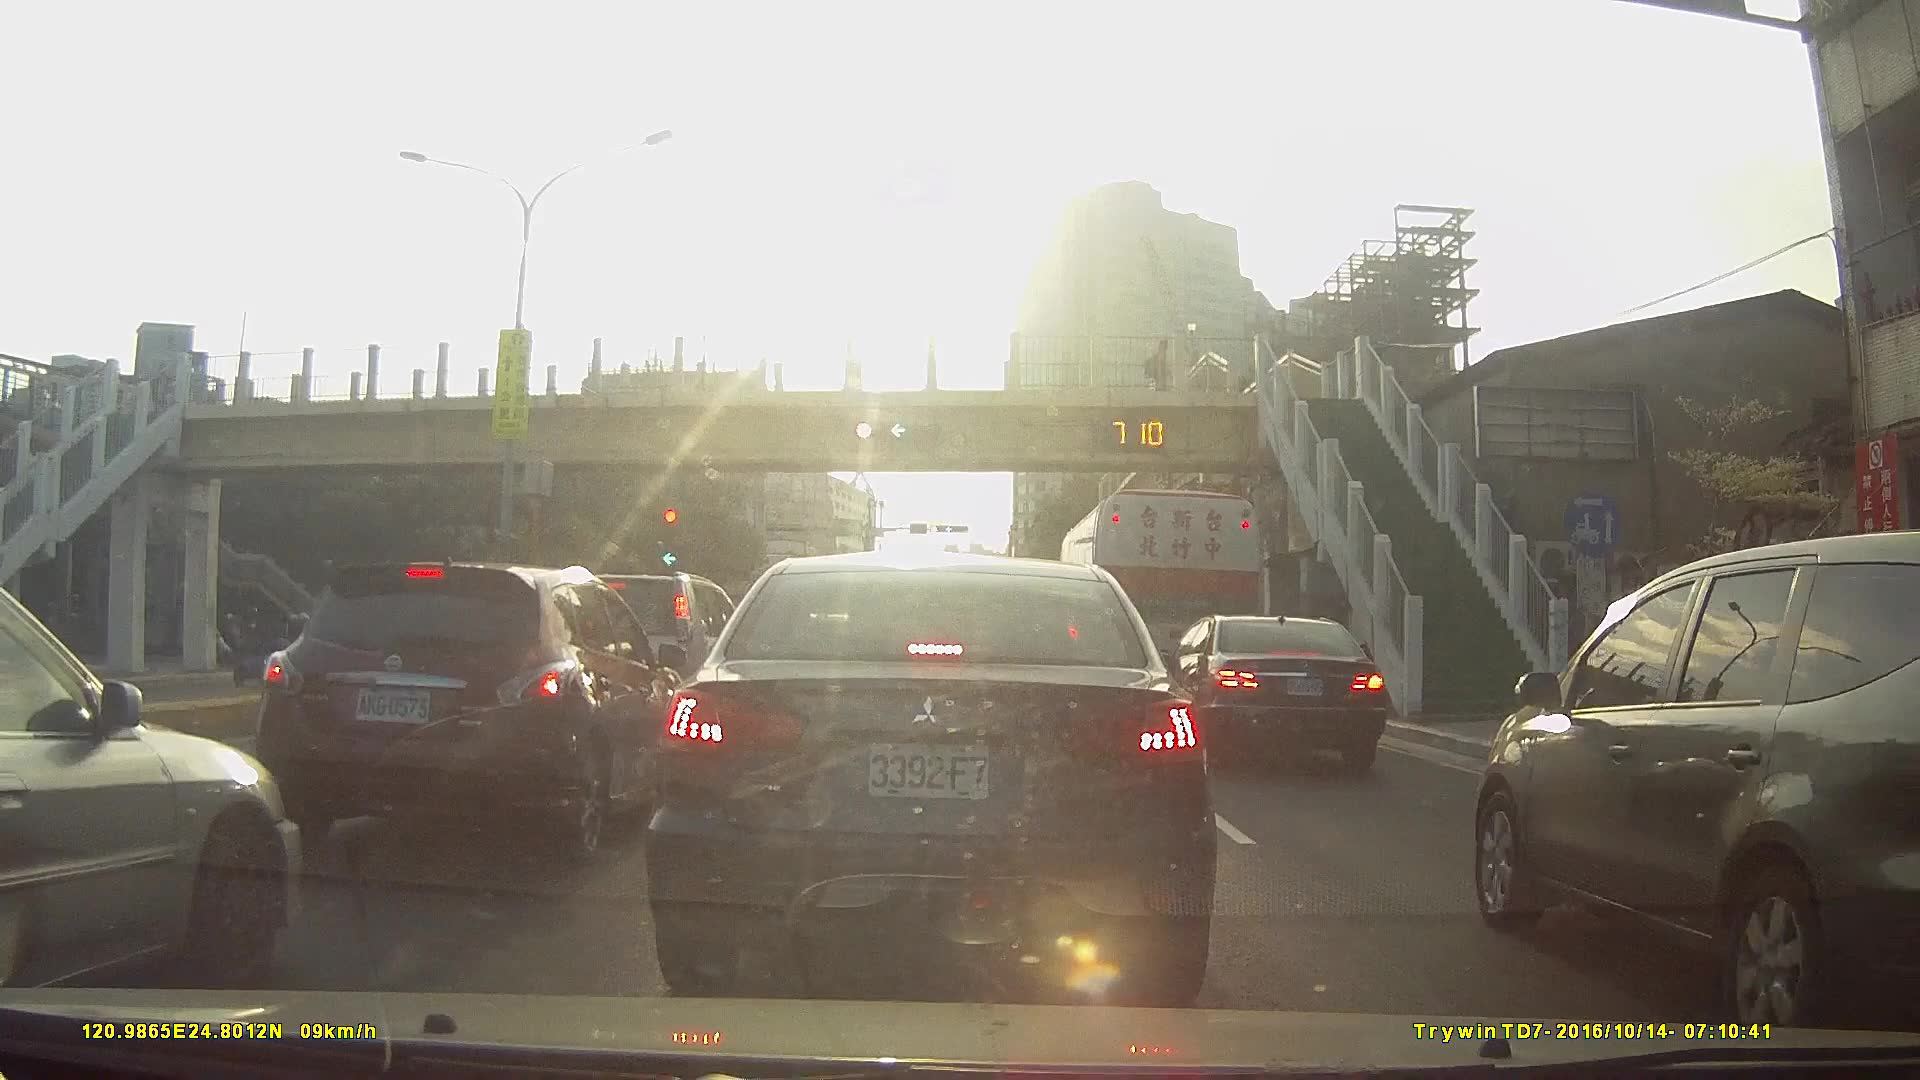pedestrian: (1145, 339, 1173, 395)
rider: (232, 601, 280, 689), (210, 613, 268, 669)
vehicle: (643, 552, 1218, 1004), (1466, 524, 1920, 1053), (254, 556, 694, 868), (0, 579, 305, 1004), (1056, 485, 1265, 727), (1152, 615, 1390, 773)
